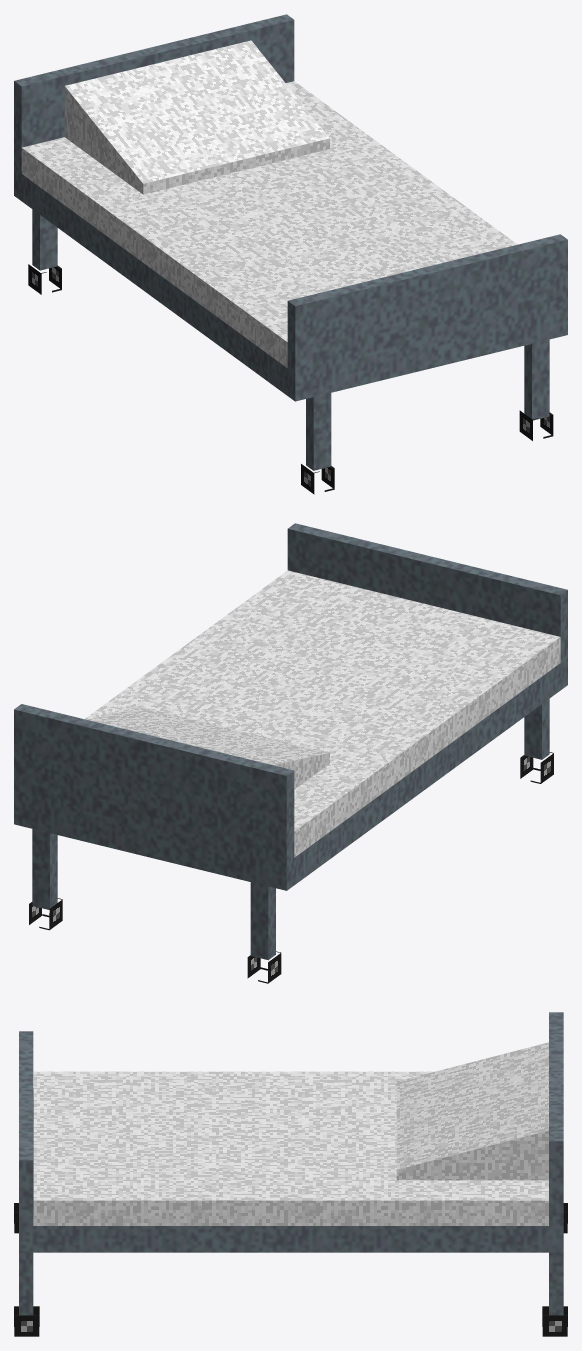
Rendered from BLOCKYGON_HOSPITAL BED.fbx.
3 views of the same model, one above another, from view 1: azimuth 30°, elevation 25°; view 2: azimuth 150°, elevation 25°; view 3: azimuth 270°, elevation 25° (orthographic). The views are drawn at different scales.
Parts seen in each view (by area): view 1: BLOCKYGON_HOSPITAL_BED; view 2: BLOCKYGON_HOSPITAL_BED; view 3: BLOCKYGON_HOSPITAL_BED.
Part boxes in pixels (x1,y1,x2,y2): BLOCKYGON_HOSPITAL_BED: (14, 14, 567, 494); BLOCKYGON_HOSPITAL_BED: (14, 523, 567, 983); BLOCKYGON_HOSPITAL_BED: (14, 1012, 567, 1336).
Bounding box in the file's own units: 133 × 97.97 × 242.
